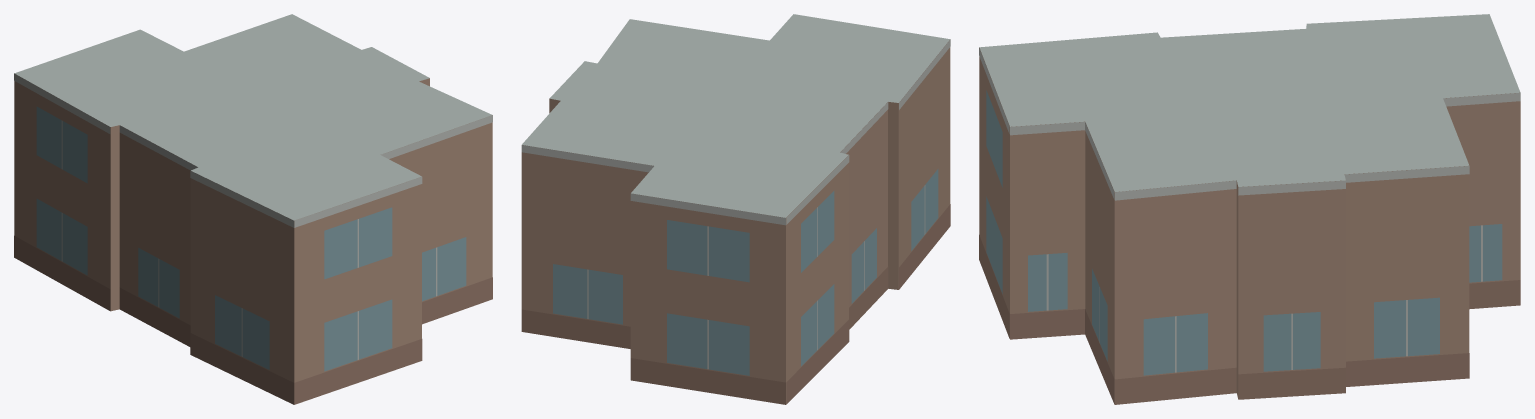
File: survey-upis-32561852.glb
3 renders of one model, left to right at view 1: azimuth 30°, elevation 25°; view 2: azimuth 150°, elevation 25°; view 3: azimuth 270°, elevation 25°, orthographic. The views are drawn at different scales.
Parts seen in each view (by area): view 1: survey-upis-32561852.tmp; view 2: survey-upis-32561852.tmp; view 3: survey-upis-32561852.tmp.
Boxes of the visible parts, x1,y1,x2,y2 form: survey-upis-32561852.tmp: (14,14,492,404); survey-upis-32561852.tmp: (521,14,950,404); survey-upis-32561852.tmp: (979,14,1520,404).
Size of the model in its own units: 10.97 by 6.1 by 14.08.
